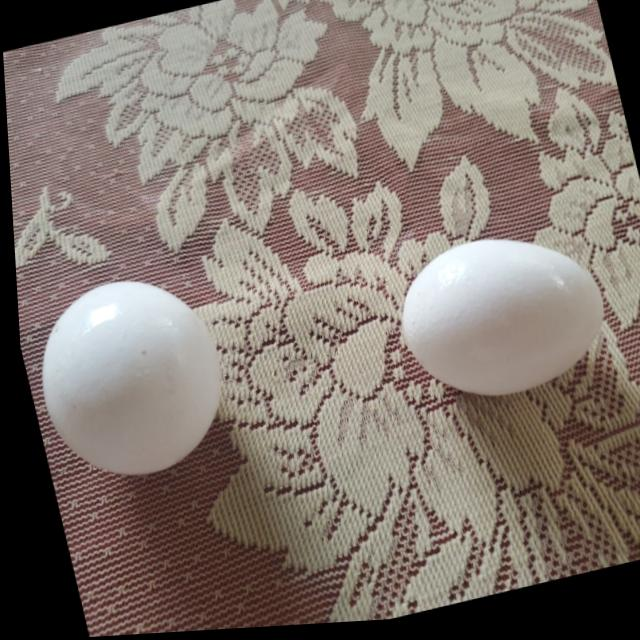egg: (21, 260, 240, 490), (379, 224, 609, 416)
